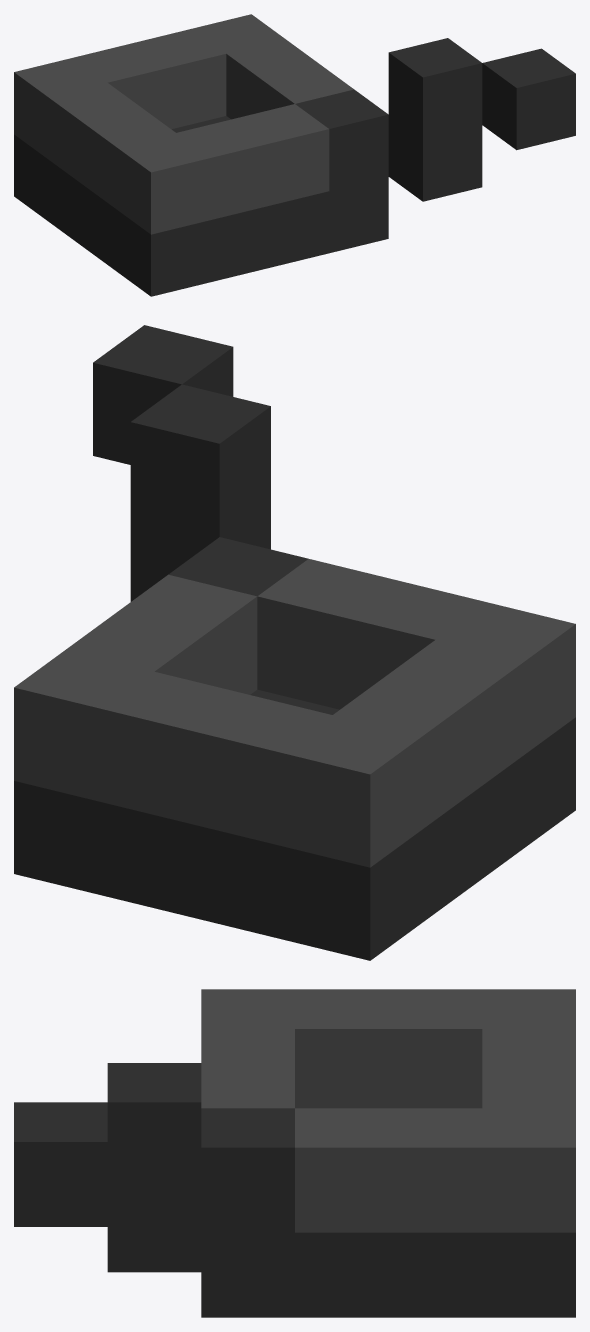
Rendered from Pan.obj.
3 renders of one model, top to bottom at view 1: azimuth 30°, elevation 25°; view 2: azimuth 150°, elevation 25°; view 3: azimuth 270°, elevation 25°, orthographic. The views are drawn at different scales.
Parts seen in each view (by area): view 1: Pan; view 2: Pan; view 3: Pan.
Part boxes in pixels (box(x1,y1,x2,y2)): Pan: box(14, 14, 575, 296); Pan: box(14, 325, 575, 960); Pan: box(14, 989, 575, 1317).
Bounding box in the file's own units: 6 × 3 × 6.
1 material, 1 textured.
